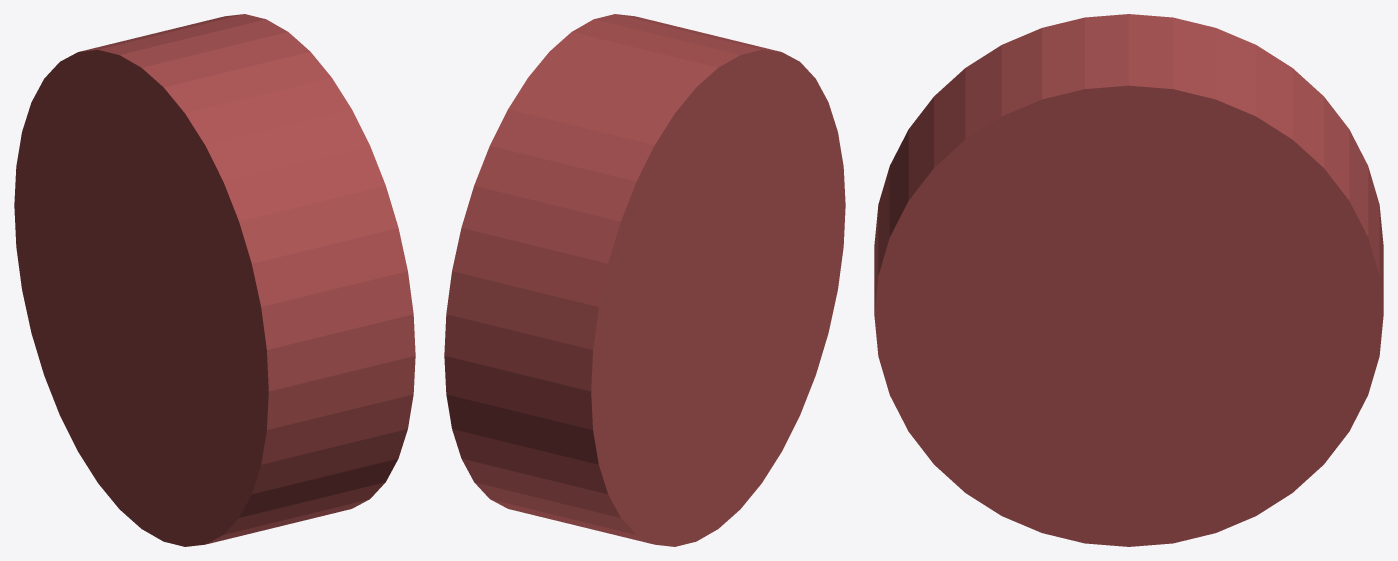
File: MOT-PB.glb
The picture shows the model from 3 angles, left to right: view 1: azimuth 30°, elevation 25°; view 2: azimuth 150°, elevation 25°; view 3: azimuth 270°, elevation 25°; orthographic projection.
Visible parts, largest first — view 1: geometry_0; view 2: geometry_0; view 3: geometry_0.
Boxes of the visible parts, x1,y1,x2,y2 form: geometry_0: [14, 14, 415, 546]; geometry_0: [444, 14, 845, 546]; geometry_0: [874, 14, 1383, 546].
Bounding box in the file's own units: 90 × 270 × 270.
